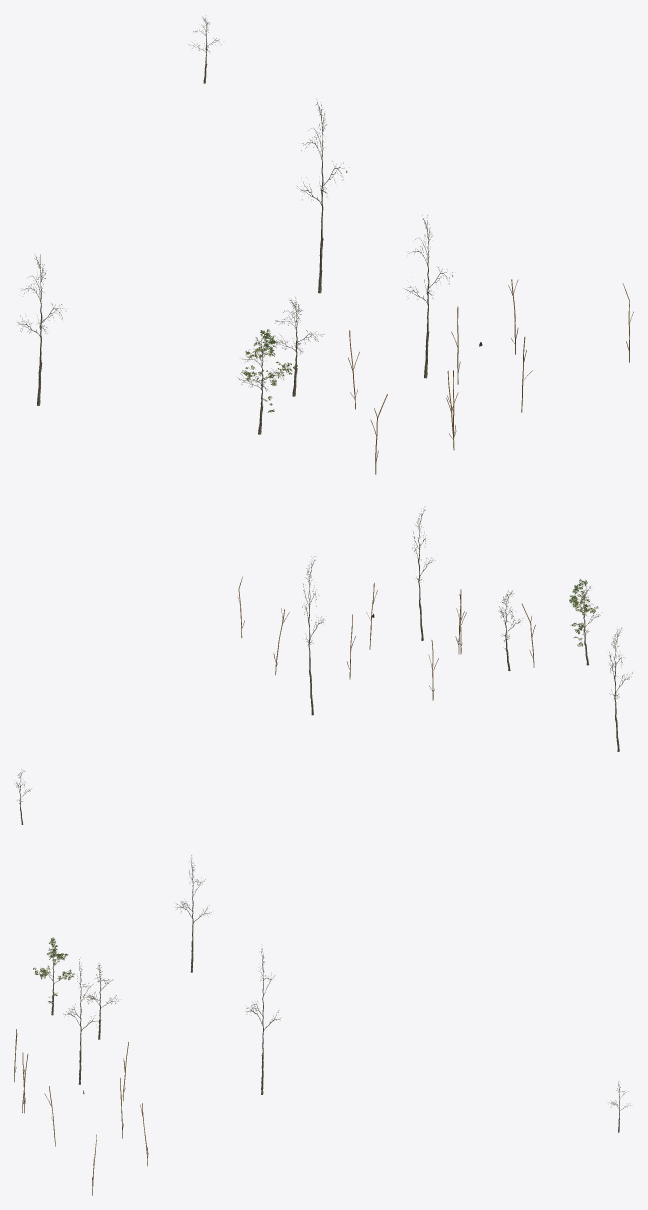
Rendered from Pasto_8.glb.
3 renders of one model, top to bottom at view 1: azimuth 30°, elevation 25°; view 2: azimuth 150°, elevation 25°; view 3: azimuth 270°, elevation 25°, orthographic. The views are drawn at different scales.
Visible parts, largest first — view 1: Leaf_1_Mat.002, Bark_Mat.004, Bark_Mat.001; view 2: Leaf_1_Mat.002, Bark_Mat.004; view 3: no part large enough to name.
Part boxes in pixels (<box>): Leaf_1_Mat.002: <box>241,329,297,412</box>; Bark_Mat.004: <box>297,102,347,293</box>; Bark_Mat.001: <box>17,254,65,405</box>; Leaf_1_Mat.002: <box>569,579,598,646</box>; Bark_Mat.004: <box>302,556,323,715</box>.
Bounding box in the file's own units: 82.44 × 34.18 × 107.
Materials: 20 (20 with a texture image).
